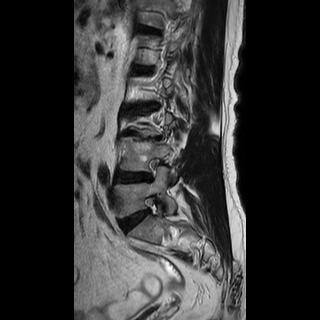LFS0: (138, 152, 166, 188)
LFS1: (133, 191, 164, 225)
